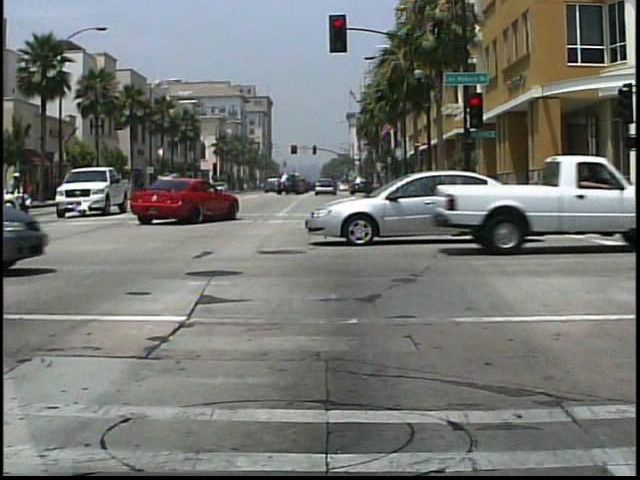person: (4, 171, 39, 223)
